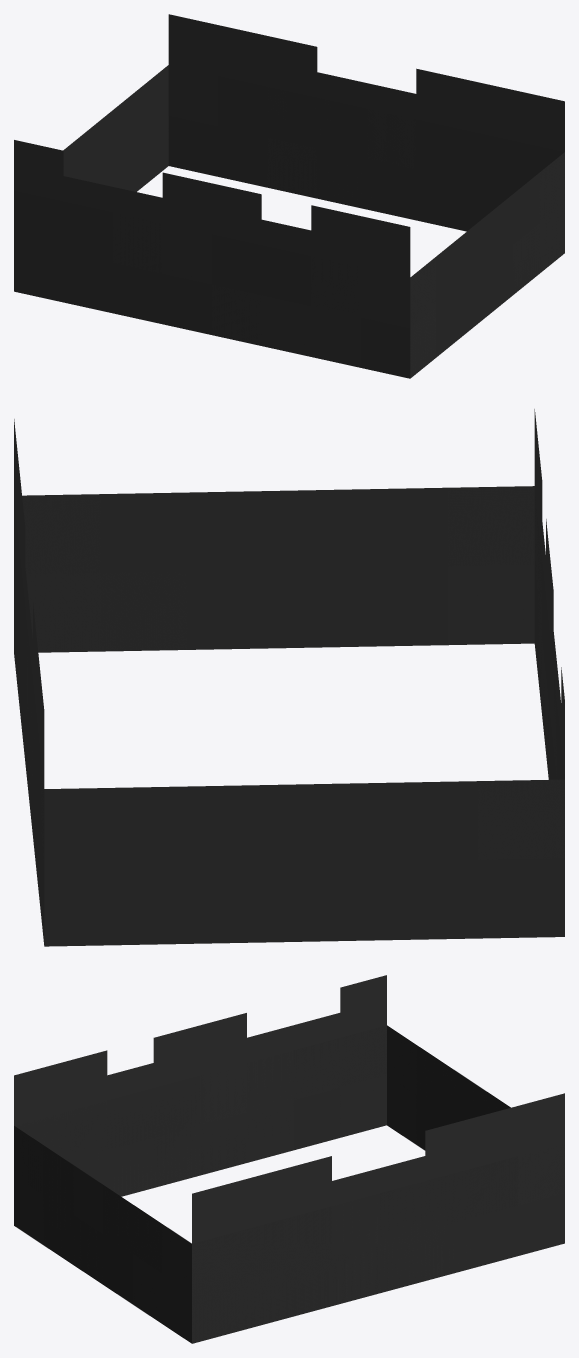
The model's file is CapCain - Converted.obj.
3 renders of one model, top to bottom at view 1: azimuth 30°, elevation 25°; view 2: azimuth 150°, elevation 25°; view 3: azimuth 270°, elevation 25°, orthographic. The views are drawn at different scales.
Visible parts, largest first — view 1: cube; view 2: cube; view 3: cube.
Part boxes in pixels (left/top/right/bottom): cube: left=14, top=14, right=564, bottom=378; cube: left=14, top=409, right=564, bottom=946; cube: left=14, top=975, right=564, bottom=1343.
Bounding box in the file's own units: 0.5849 × 0.1875 × 0.6232.
